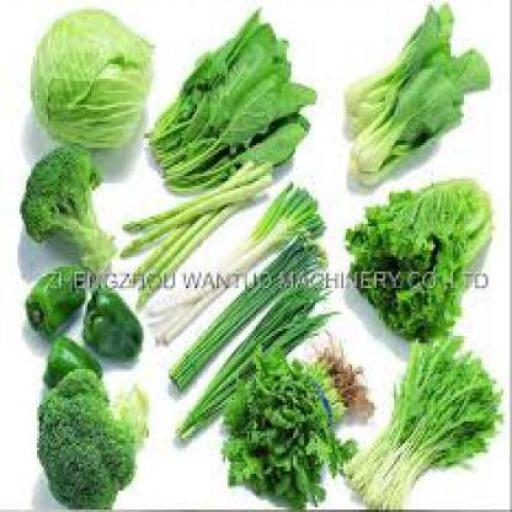biodegradable: (142, 5, 316, 193), (338, 331, 504, 510), (146, 183, 324, 341), (172, 278, 338, 446), (223, 334, 370, 510), (166, 233, 324, 391), (342, 178, 490, 341), (118, 159, 272, 307), (348, 47, 488, 184), (28, 8, 152, 150), (35, 366, 145, 510), (344, 0, 450, 127), (20, 143, 112, 264), (24, 262, 86, 331), (82, 288, 140, 357), (42, 336, 101, 390)
